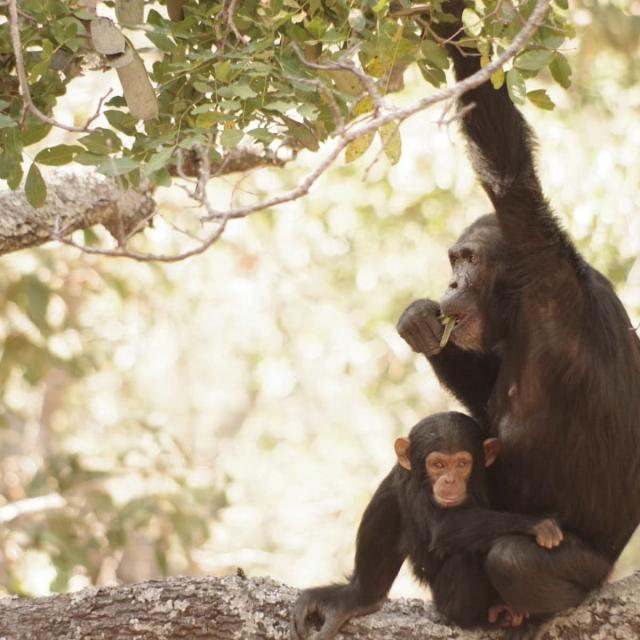chimpanzee: (397, 81, 639, 639), (291, 411, 560, 639), (291, 450, 405, 639)
